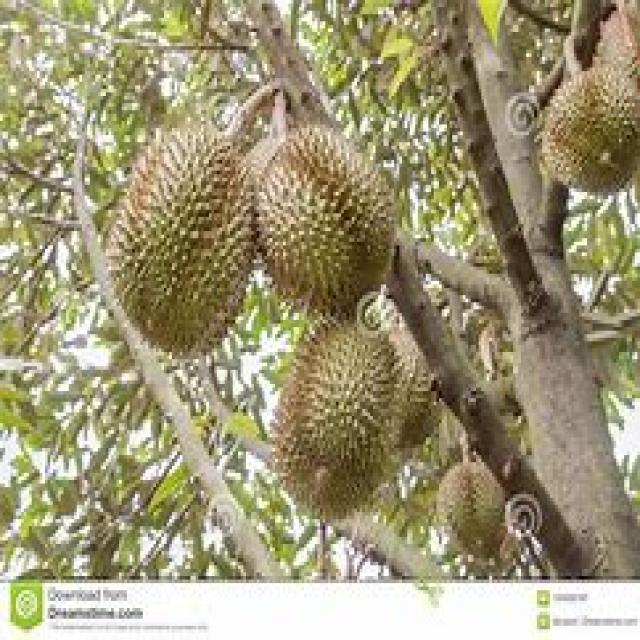mature: (106, 124, 255, 356), (258, 126, 396, 312), (274, 324, 399, 520)
